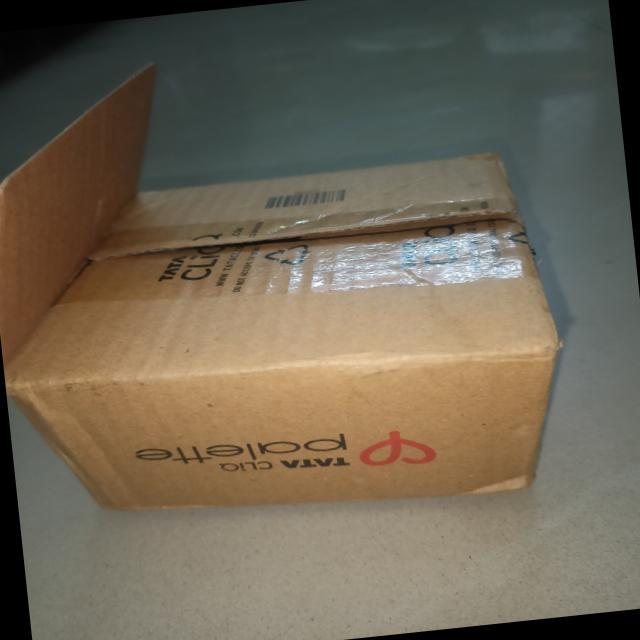cardboard_box: (0, 112, 625, 537)
